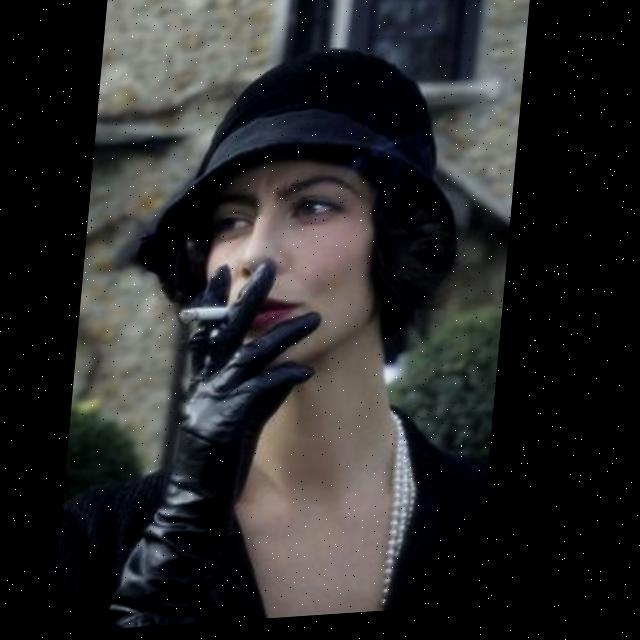cigarette: (182, 306, 242, 329)
